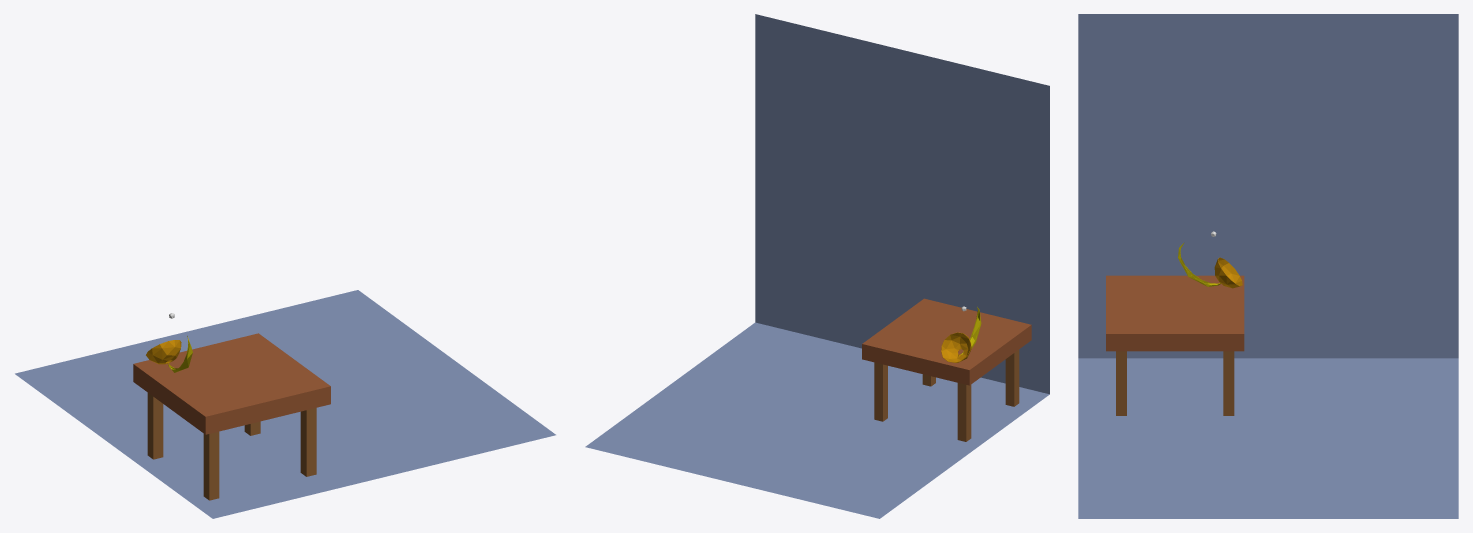
Rendered from home.glb.
3 views of the same model, side by side, from view 1: azimuth 30°, elevation 25°; view 2: azimuth 150°, elevation 25°; view 3: azimuth 270°, elevation 25° (orthographic). The views are drawn at different scales.
Visible parts, largest first — view 1: walls, table, Sphere; view 2: walls, table, Sphere; view 3: walls, table, Sphere.
Part boxes in pixels (x1,y1,x2,y2): walls: [15, 290, 555, 518]; table: [133, 333, 330, 500]; Sphere: [146, 336, 192, 372]; walls: [585, 14, 1049, 518]; table: [862, 298, 1031, 441]; Sphere: [941, 307, 981, 362]; walls: [1078, 14, 1458, 518]; table: [1106, 275, 1244, 415]; Sphere: [1178, 242, 1242, 288].
Size of the model in its own units: 9 by 9 by 9.
